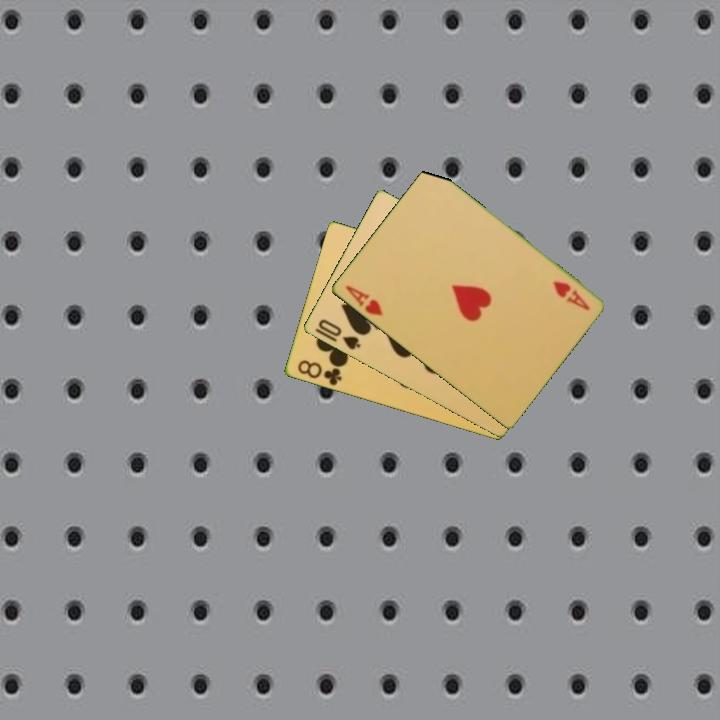10s: (314, 316, 363, 353)
8c: (294, 356, 344, 389)
Ah: (341, 281, 385, 319), (549, 278, 592, 314)
